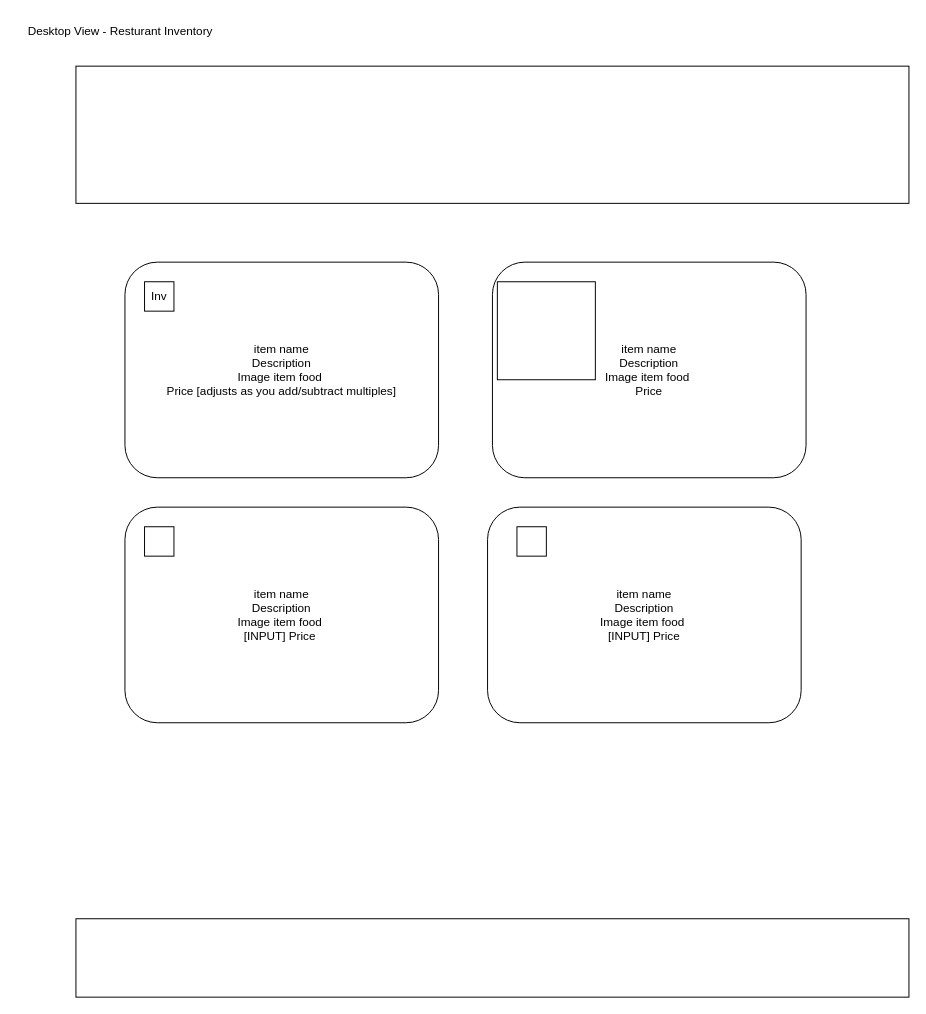
The diagram is 926 pixels wide and 1014 high, and some of its shapes have lost their labels. Each missing label, with the box of its shape:
Nav bar: (75, 65, 909, 203)
Quantity - dropdown: (496, 281, 595, 380)
Restaurant info: (75, 918, 909, 997)
